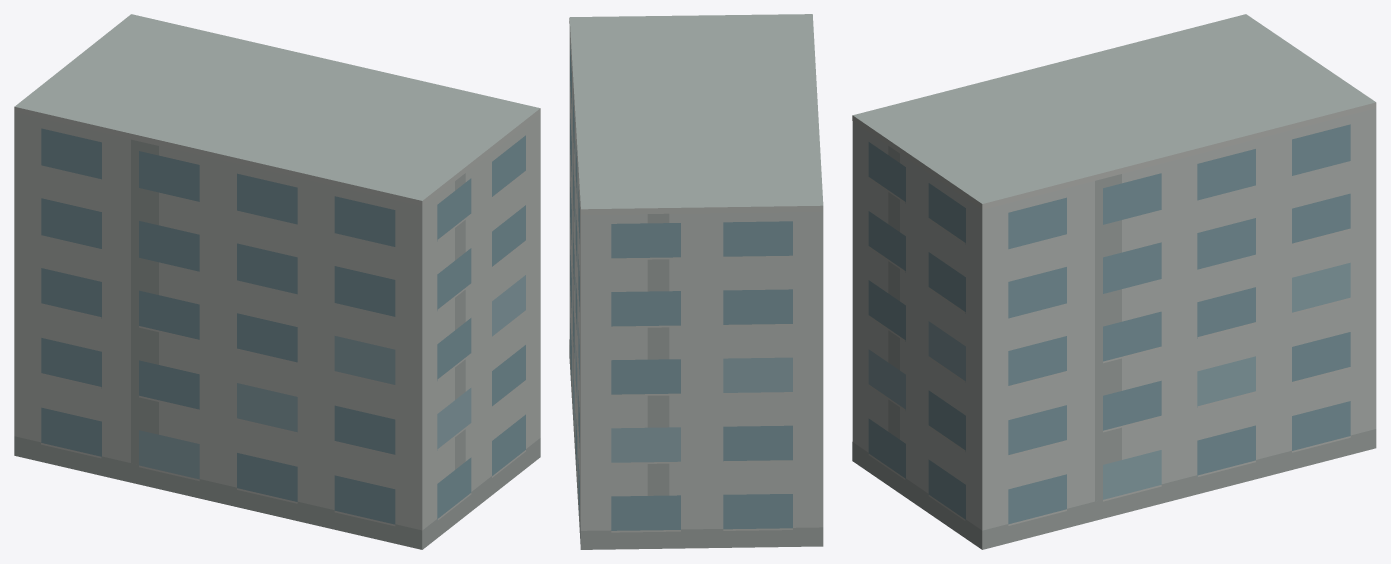
File: survey-upis-32884228.glb
3 renders of one model, left to right at view 1: azimuth 30°, elevation 25°; view 2: azimuth 150°, elevation 25°; view 3: azimuth 270°, elevation 25°, orthographic. The views are drawn at different scales.
Parts seen in each view (by area): view 1: survey-upis-32884228.tmp; view 2: survey-upis-32884228.tmp; view 3: survey-upis-32884228.tmp.
Boxes of the visible parts, x1=… form: survey-upis-32884228.tmp: x1=14, y1=14, x2=540, y2=549; survey-upis-32884228.tmp: x1=569, y1=14, x2=823, y2=549; survey-upis-32884228.tmp: x1=852, y1=14, x2=1376, y2=549.
Size of the model in its own units: 16.97 by 14.39 by 19.76.
